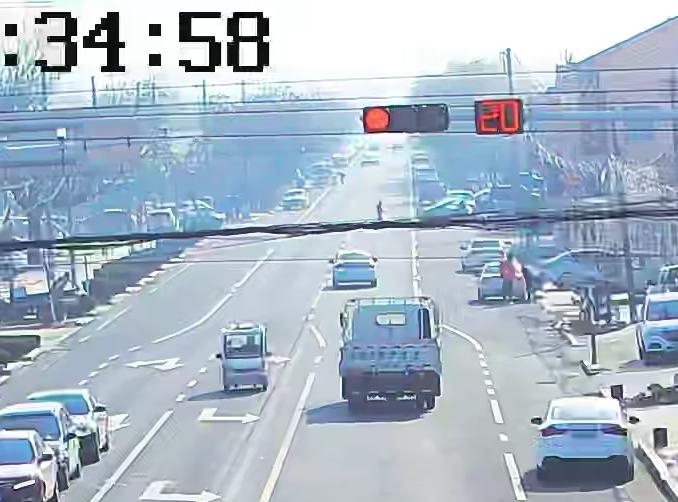red: (363, 107, 391, 131)
redtime: (476, 99, 521, 134)
